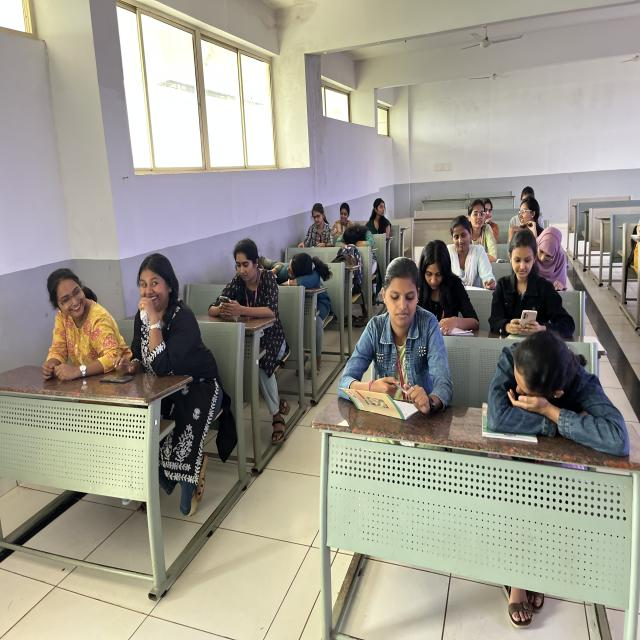Reading: (440, 213, 501, 290), (294, 199, 336, 251)
Sleeping: (475, 324, 638, 466), (269, 248, 347, 323), (332, 223, 378, 258)
Using Phone: (484, 219, 577, 348), (209, 235, 296, 357)
Writing: (334, 249, 453, 427), (529, 220, 587, 298)
